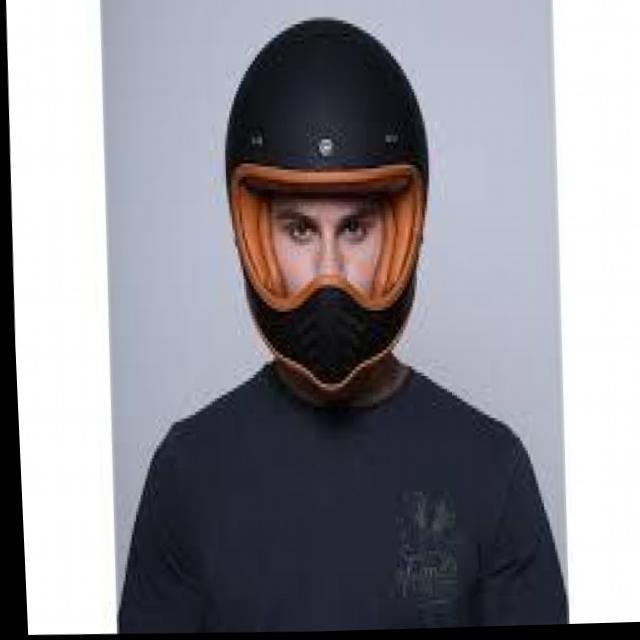Helmet: (218, 14, 436, 402)
